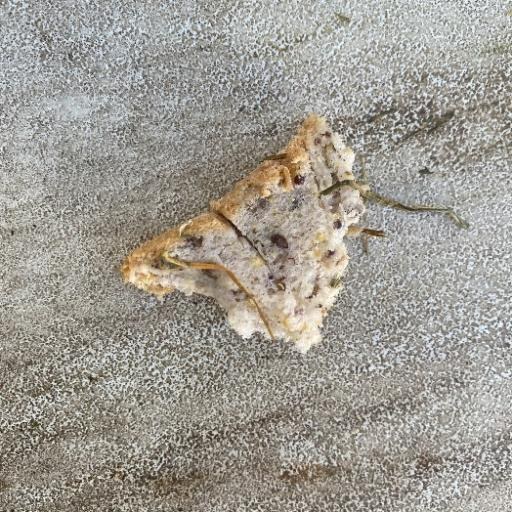Waste: (118, 111, 370, 355)
